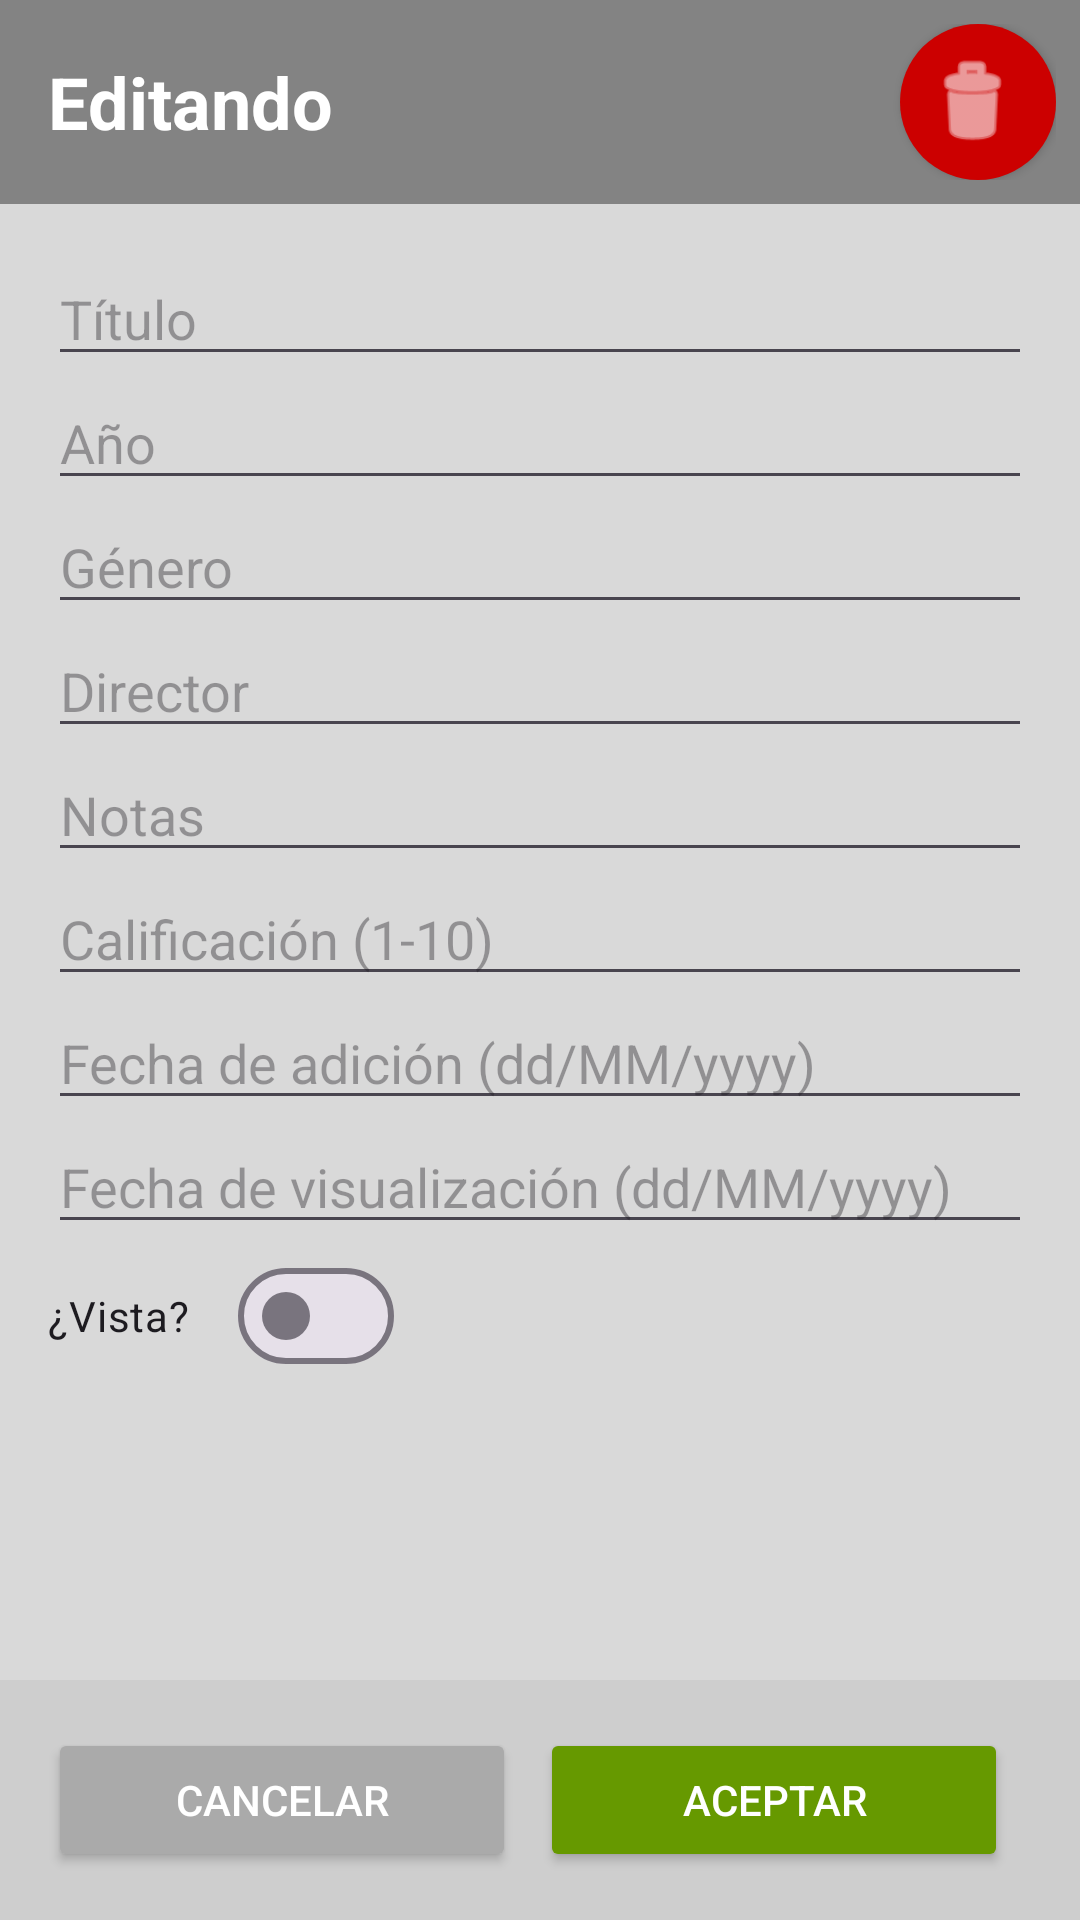

Icons on this 1080px x 1920px Android screen, each with its box as (x1, y1, x2, y2):
Borrar: (900, 24, 1056, 180)
